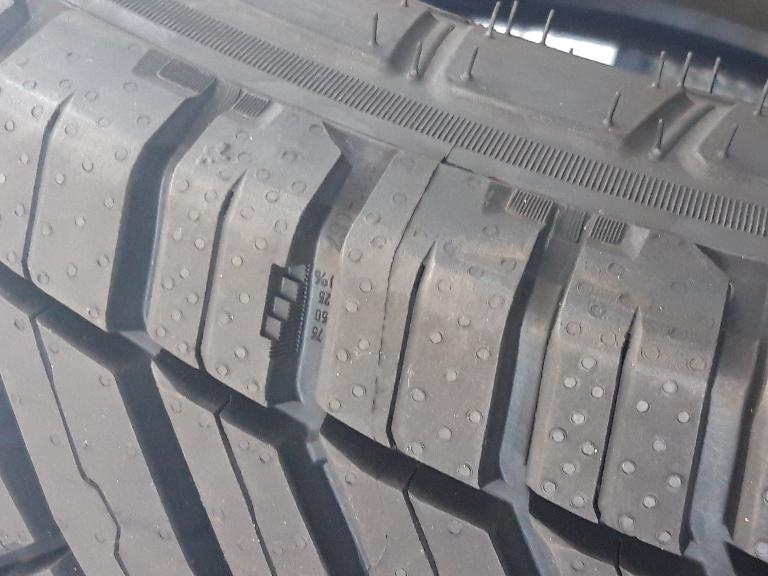temoin:100: (257, 260, 313, 359)
